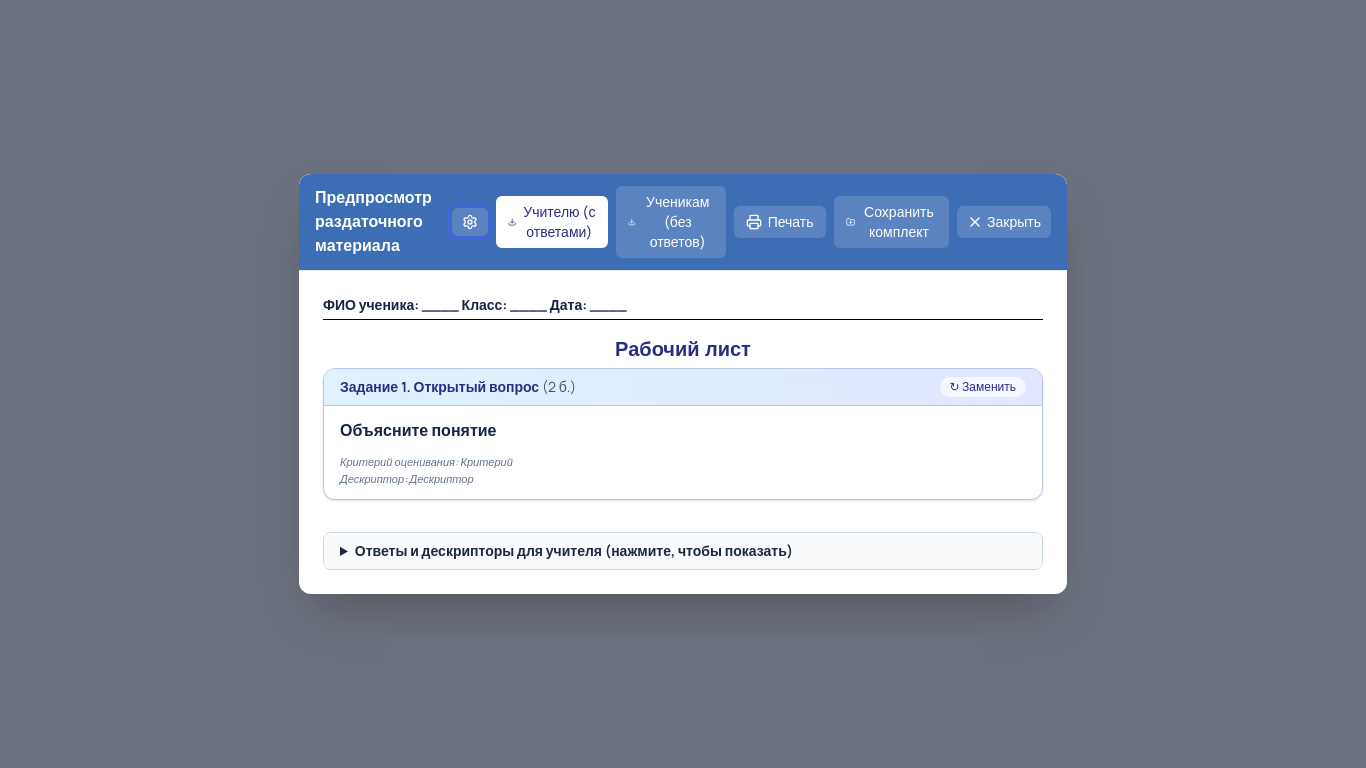
настройки предпросмотра › панель открывается и по умолчанию всё показано
Click the button titled "Настройки": x=470, y=222 [452,208,488,236]
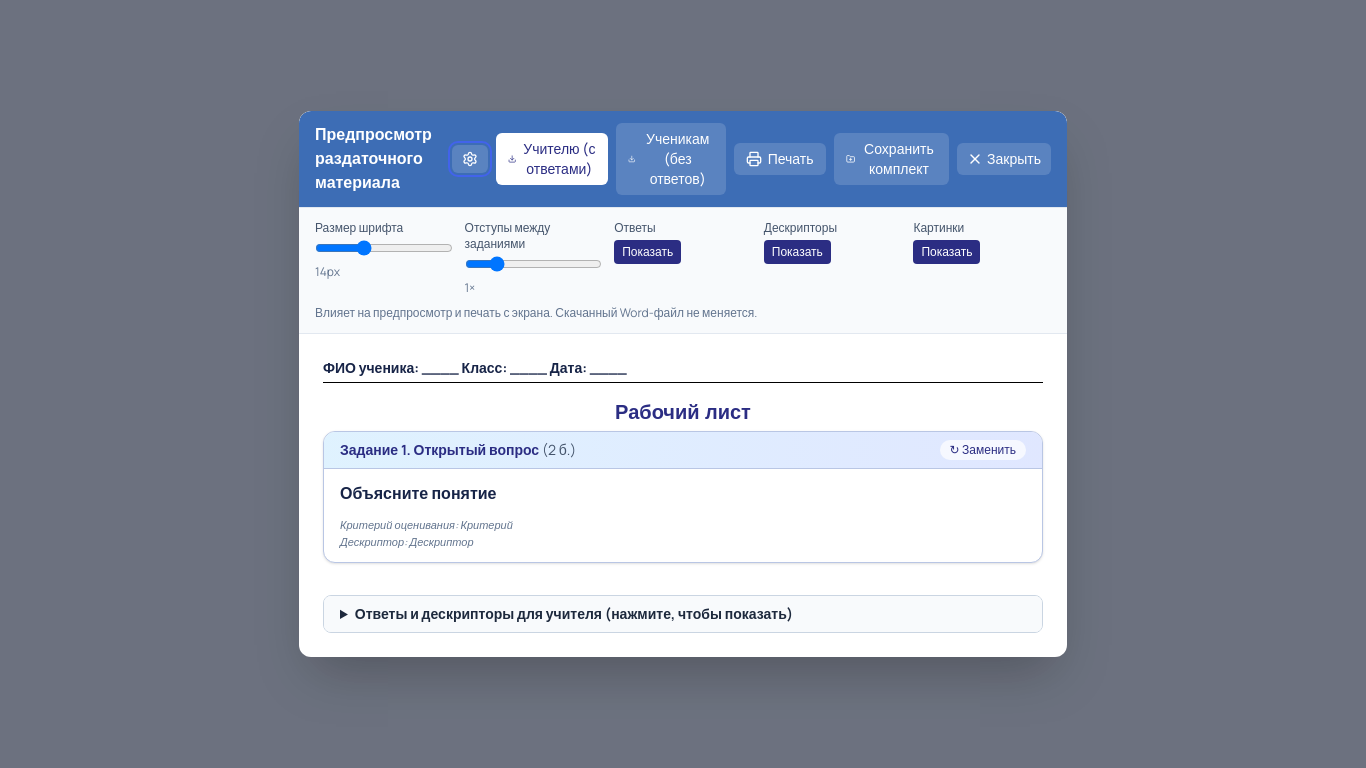
Now the text "Размер шрифта" is shown, box [315,219,403,236]
Now the text "Отступы между заданиями" is shown, box [465,219,550,252]
Now the text "Картинки" is shown, box [913,219,964,236]
